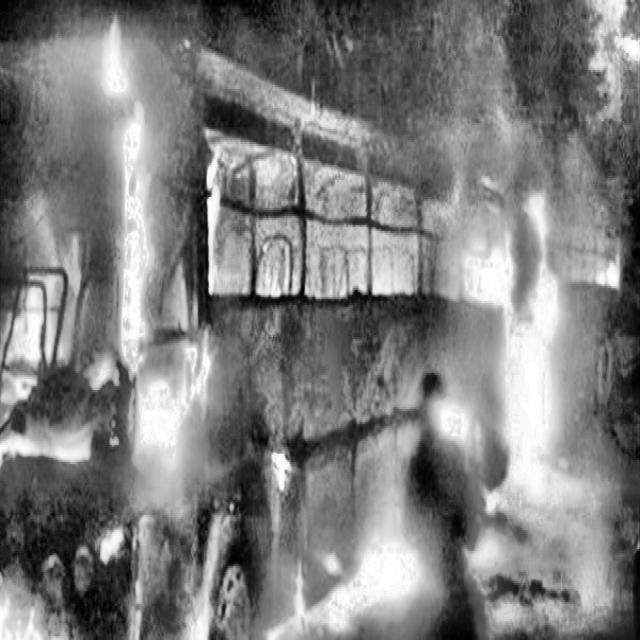fire: (0, 14, 236, 599), (425, 179, 614, 565), (293, 437, 414, 640)
